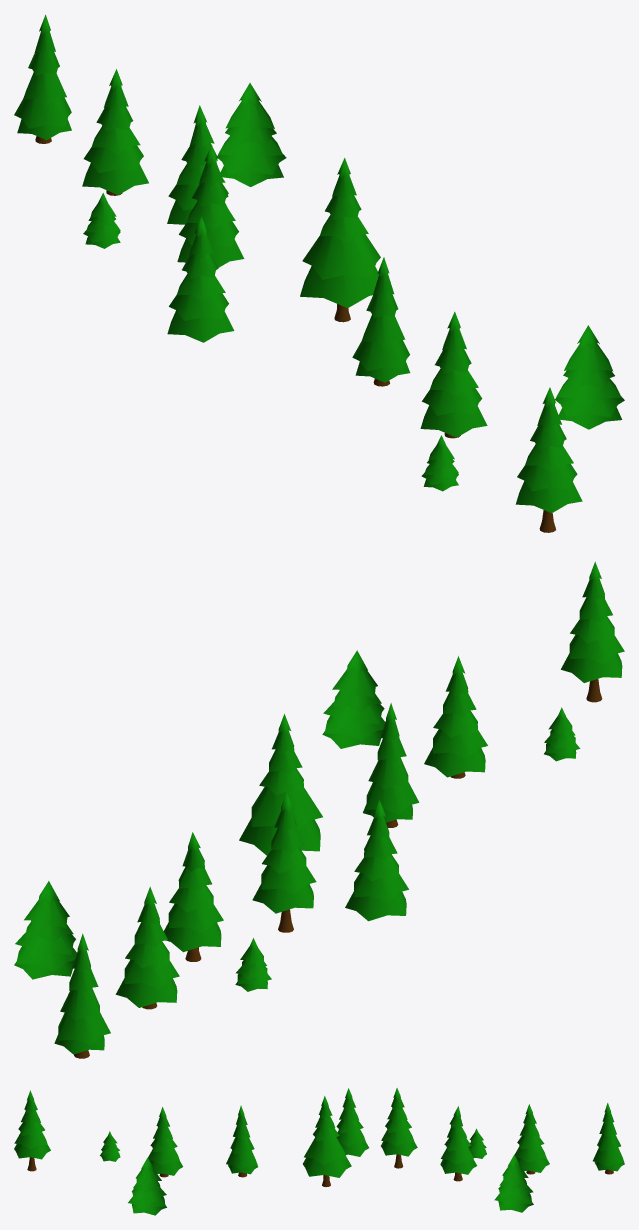
Rendered from arbolesLinea.obj.
3 views of the same model, one above another, from view 1: azimuth 30°, elevation 25°; view 2: azimuth 150°, elevation 25°; view 3: azimuth 270°, elevation 25° (orthographic). The views are drawn at different scales.
Parts seen in each view (by area): view 1: ???????_006, ???????_002, ???????_014, ???????_009, ???????_007, ???????_005, ???????_013, ???????_003, ???????_011, ???????_010, ???????_001, ???????_004 (+1 smaller); view 2: ???????_006, ???????_002, ???????_010, ???????_001, ???????_014, ???????_009, ???????_007, ???????_005, ???????_013, ???????_011, ???????_003, ???????_004 (+1 smaller); view 3: ???????_006, ???????_002, ???????_010, ???????_001, ???????_013, ???????_005, ???????_009, ???????_014, ???????_007, ???????_011, ???????_003, ???????_004 (+1 smaller).
Boxes of the visible parts, box(x1,y1,x2,y2) form: ???????_006: box(300, 158, 380, 322); ???????_002: box(515, 387, 582, 532); ???????_014: box(82, 69, 148, 195); ???????_009: box(420, 311, 487, 438); ???????_007: box(167, 217, 234, 342); ???????_005: box(555, 325, 624, 429); ???????_013: box(217, 83, 286, 186); ???????_003: box(352, 257, 410, 386); ???????_011: box(14, 14, 71, 143); ???????_010: box(177, 144, 244, 267); ???????_001: box(167, 105, 228, 224); ???????_004: box(421, 435, 458, 491); ???????_006: box(239, 714, 322, 855); ???????_002: box(561, 561, 624, 702); ???????_010: box(252, 792, 316, 932); ???????_001: box(164, 832, 223, 961); ???????_014: box(115, 886, 179, 1009); ???????_009: box(424, 656, 487, 778); ???????_007: box(345, 800, 408, 921); ???????_005: box(322, 650, 385, 748); ???????_013: box(14, 881, 76, 979); ???????_011: box(54, 933, 110, 1058); ???????_003: box(363, 703, 419, 827); ???????_004: box(544, 707, 580, 761); ???????_006: box(303, 1096, 351, 1186); ???????_002: box(14, 1090, 50, 1171); ???????_010: box(381, 1088, 417, 1168); ???????_001: box(440, 1106, 476, 1181); ???????_013: box(494, 1154, 533, 1212); ???????_005: box(128, 1157, 166, 1215); ???????_009: box(148, 1107, 182, 1177); ???????_014: box(514, 1104, 549, 1174); ???????_007: box(336, 1088, 368, 1156); ???????_011: box(593, 1103, 624, 1174); ???????_003: box(226, 1105, 257, 1177); ???????_004: box(100, 1131, 120, 1161).
Bounding box in the file's own units: 2213 × 1288 × 7869.
Materials: 1 (1 with a texture image).
